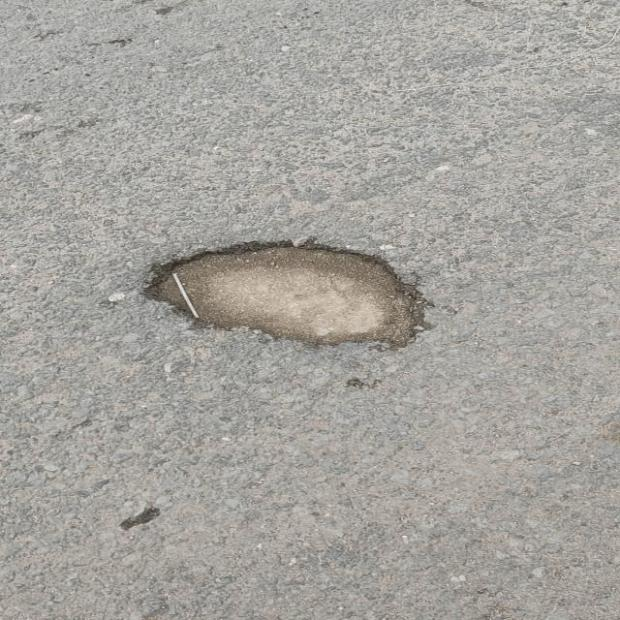lubang: (144, 243, 424, 347)
